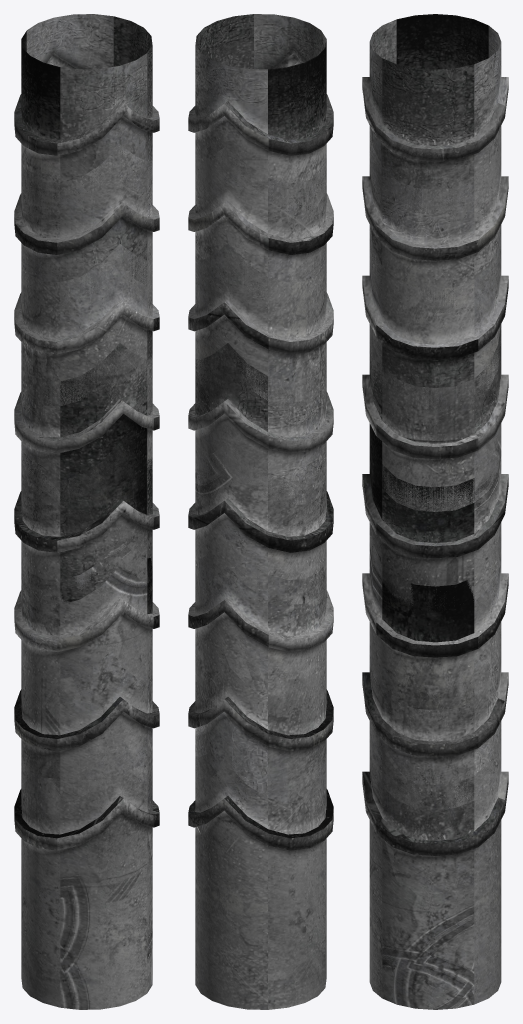
The model's file is 1000triangles.obj.
The picture shows the model from 3 angles, left to right: view 1: azimuth 30°, elevation 25°; view 2: azimuth 150°, elevation 25°; view 3: azimuth 270°, elevation 25°; orthographic projection.
Visible parts, largest first — view 1: Cylinder.001_Cylinder.002; view 2: Cylinder.001_Cylinder.002; view 3: Cylinder.001_Cylinder.002.
Boxes of the visible parts, <box> form: Cylinder.001_Cylinder.002: <box>14,14,159,1009</box>; Cylinder.001_Cylinder.002: <box>188,14,333,1009</box>; Cylinder.001_Cylinder.002: <box>362,14,508,1009</box>.
Size of the model in its own units: 0.8661 by 6.15 by 0.8661.
1 material, 1 textured.
